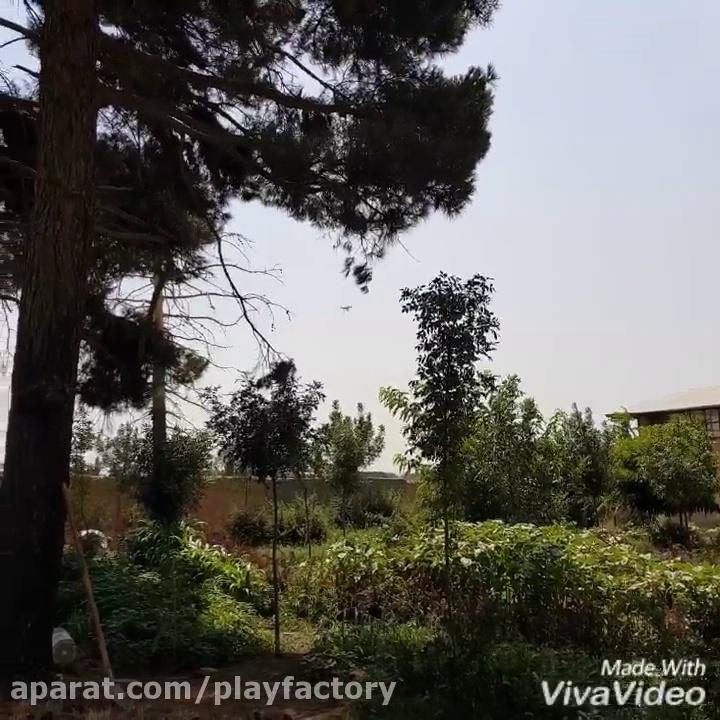drone: (336, 299, 355, 316)
